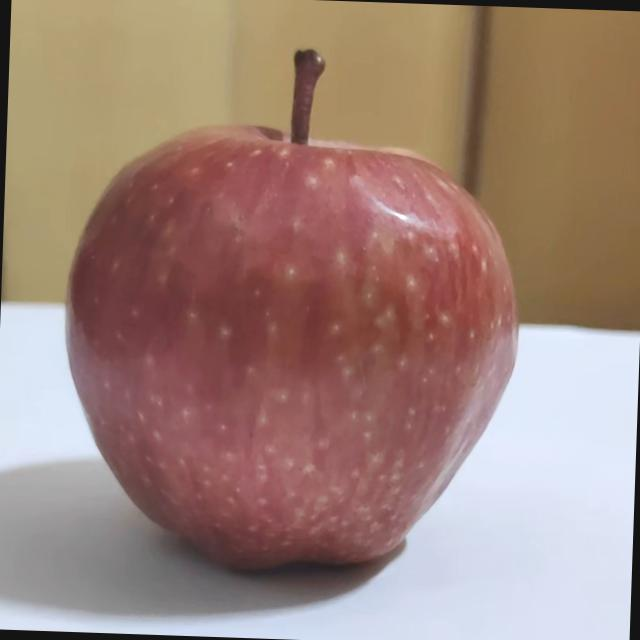apple: (36, 34, 619, 640)
